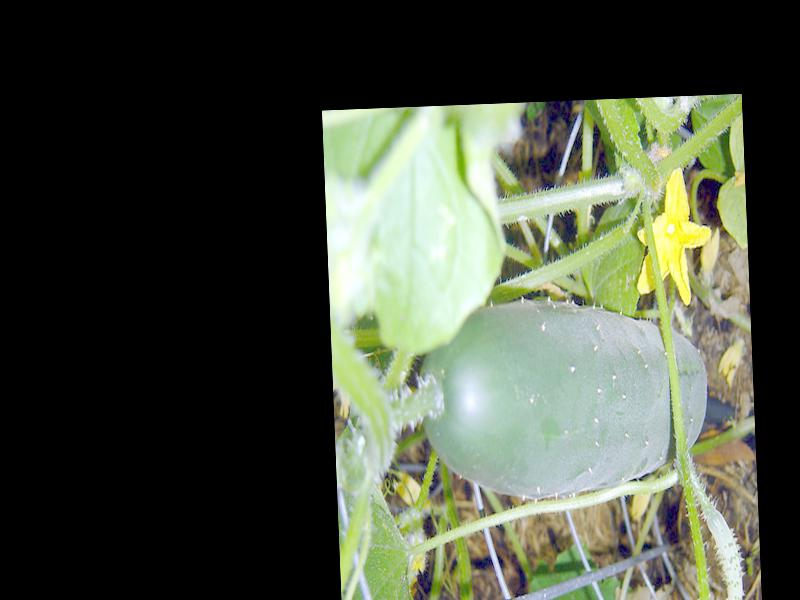Cucumber: (417, 294, 710, 505)
